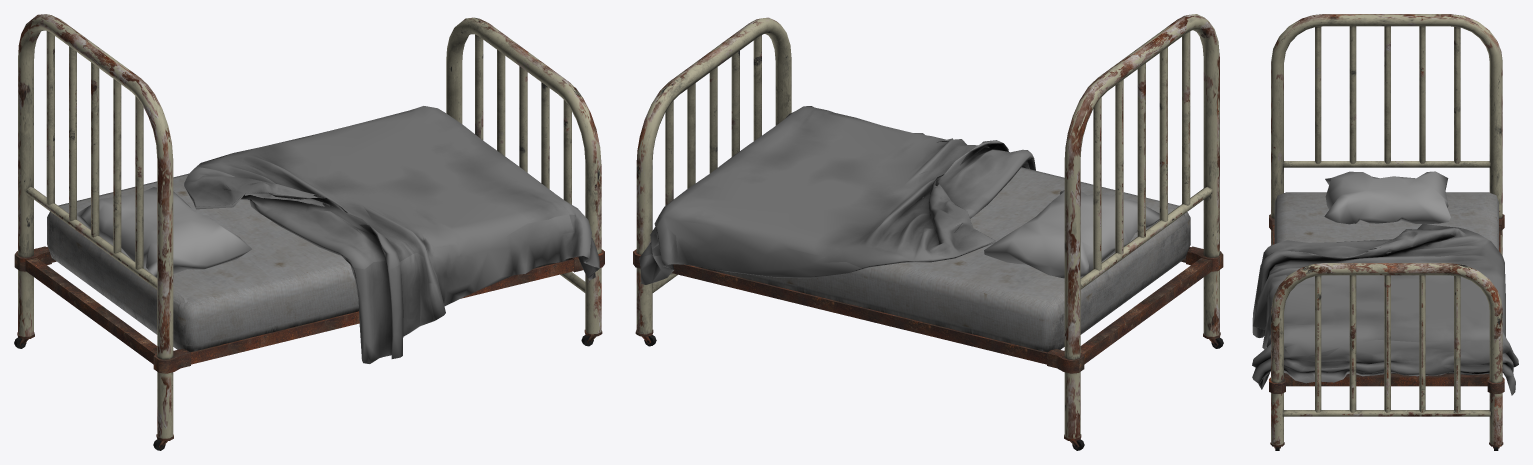
File: hospital_bed.glb
3 renders of one model, left to right at view 1: azimuth 30°, elevation 25°; view 2: azimuth 150°, elevation 25°; view 3: azimuth 270°, elevation 25°, orthographic. The views are drawn at different scales.
Parts seen in each view (by area): view 1: low_Pillow_1; view 2: low_Pillow_1; view 3: low_Pillow_1.
Boxes of the visible parts, x1,y1,x2,y2 form: low_Pillow_1: (14, 14, 604, 450); low_Pillow_1: (633, 14, 1223, 450); low_Pillow_1: (1252, 14, 1518, 450).
Bounding box in the file's own units: 187 × 139 × 123.
3 materials, 2 textured.
